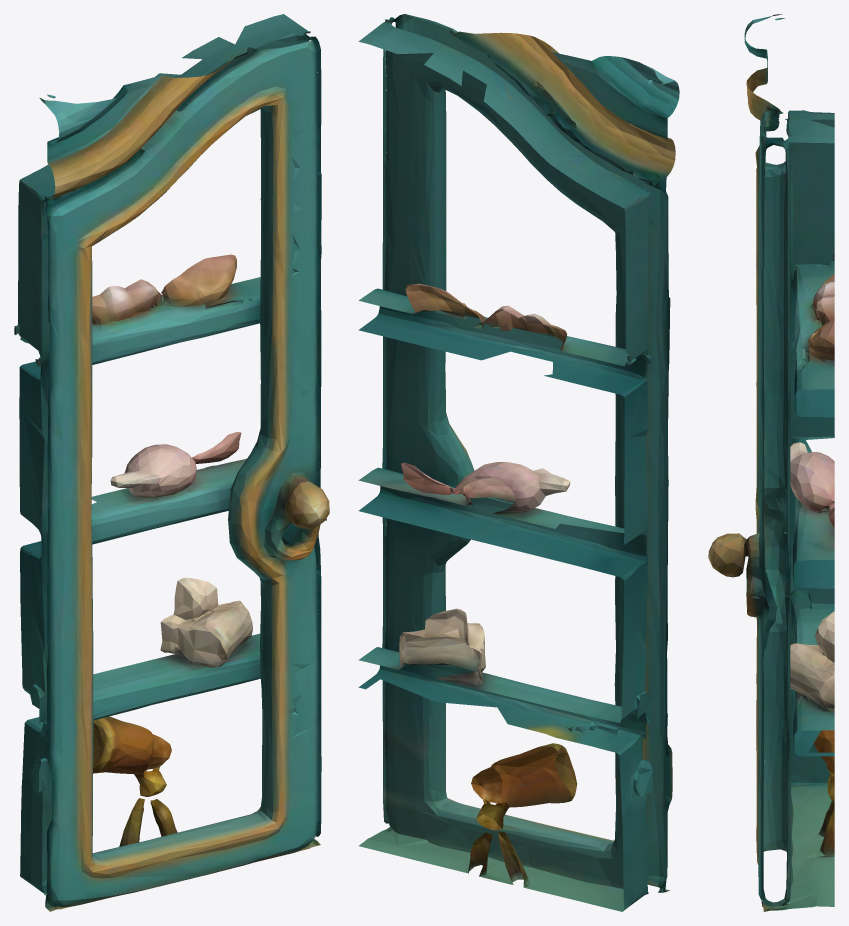
File: door_left.glb
The picture shows the model from 3 angles, left to right: view 1: azimuth 30°, elevation 25°; view 2: azimuth 150°, elevation 25°; view 3: azimuth 270°, elevation 25°; orthographic projection. The views are drawn at different scales.
Parts seen in each view (by area): view 1: source_surface_0; view 2: source_surface_0; view 3: source_surface_0.
Part boxes in pixels (x1,y1,x2,y2): source_surface_0: (14,14,329,911); source_surface_0: (358,14,679,911); source_surface_0: (708,14,834,911).
Bounding box in the file's own units: 0.2167 × 0.6144 × 0.0913.
Materials: 1 (1 with a texture image).
